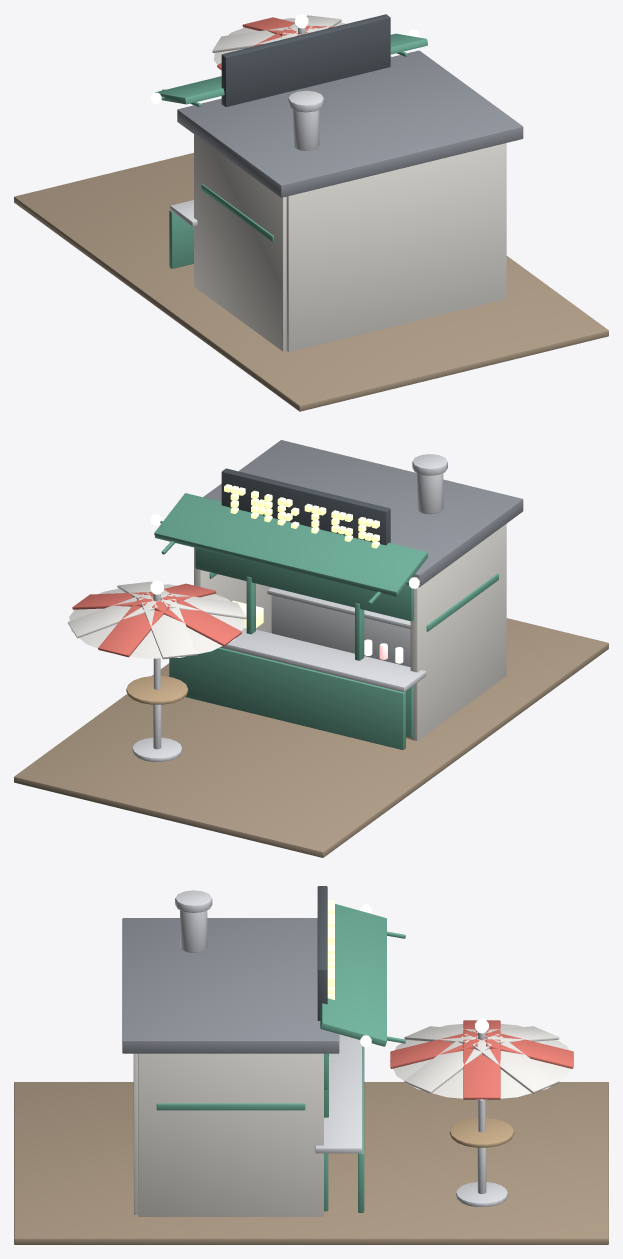
File: th13_imbissbude.glb
The picture shows the model from 3 angles, top to bottom: view 1: azimuth 30°, elevation 25°; view 2: azimuth 150°, elevation 25°; view 3: azimuth 270°, elevation 25°; orthographic projection. The views are drawn at different scales.
Parts seen in each view (by area): view 1: Cube, Cube.002, Cube.013, Cube.003, Cube.017, Cube.014, Cube.012, Cylinder, Cube.096, Cylinder.001, Cube.004, Cube.095; view 2: Cube, Cube.003, Cube.013, Cube.012, Cube.014, Cube.011, Cube.008, Cube.090, Cube.017, Cone, Cube.096, Cube.005 (+12 smaller); view 3: Cube, Cube.005, Cube.013, Cube.014, Cube.011, Cone, Cube.093, Cube.100, Cube.094, Cylinder.011, Cube.017, Cube.095 (+9 smaller).
Part boxes in pixels (box(x1,y1,x2,y2)): Cube: box(14, 153, 608, 411); Cube.002: box(286, 143, 504, 351); Cube.013: box(177, 50, 523, 197); Cube.003: box(194, 134, 286, 351); Cube.017: box(221, 14, 390, 106); Cube.014: box(155, 33, 427, 104); Cube.012: box(169, 210, 193, 268); Cylinder: box(293, 110, 319, 150); Cube.096: box(212, 26, 297, 52); Cylinder.001: box(288, 90, 323, 112); Cube.004: box(201, 184, 273, 241); Cube.095: box(242, 17, 314, 35); Cube: box(14, 618, 608, 857); Cube.003: box(410, 524, 506, 740); Cube.013: box(203, 440, 523, 587); Cube.012: box(169, 647, 405, 749); Cube.014: box(154, 493, 427, 596); Cube.011: box(220, 628, 426, 692); Cube.008: box(195, 548, 413, 621); Cube.090: box(271, 595, 410, 667); Cube.017: box(221, 468, 390, 545); Cone: box(69, 584, 245, 658); Cube.096: box(141, 599, 196, 659); Cube.005: box(194, 547, 271, 633); Cube: box(14, 1082, 608, 1244); Cube.005: box(138, 1053, 323, 1216); Cube.013: box(122, 918, 339, 1053); Cube.014: box(320, 904, 386, 1046); Cube.011: box(315, 1034, 362, 1153); Cone: box(389, 1024, 573, 1100); Cube.093: box(463, 1039, 500, 1099); Cube.100: box(404, 1034, 491, 1093); Cube.094: box(472, 1034, 559, 1093); Cylinder.011: box(449, 1117, 514, 1147); Cube.017: box(317, 886, 327, 1020); Cube.095: box(486, 1030, 573, 1068).
Size of the model in its own units: 6 by 4.26 by 9.6.
